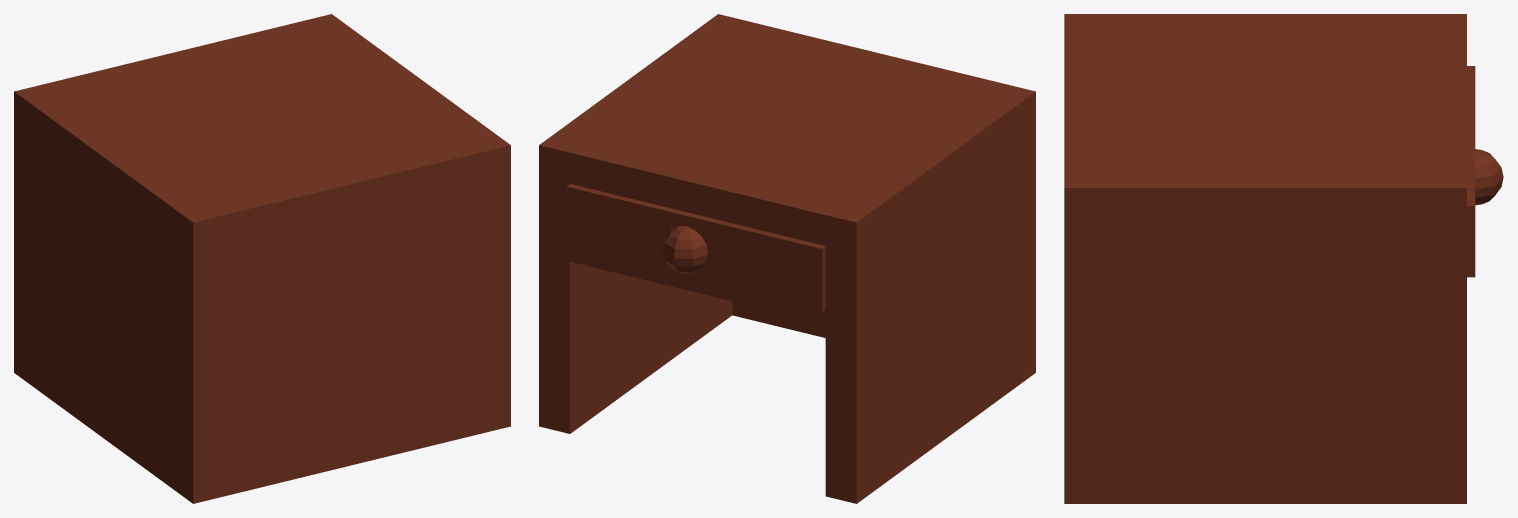
The model's file is meja_dibuka.fbx.
3 renders of one model, left to right at view 1: azimuth 30°, elevation 25°; view 2: azimuth 150°, elevation 25°; view 3: azimuth 270°, elevation 25°, orthographic. The views are drawn at different scales.
Visible parts, largest first — view 1: Cube.008; view 2: Cube.008, Cube.185; view 3: Cube.008, Cube.185.
Part boxes in pixels (x1,y1,x2,y2): Cube.008: (14,14,510,503); Cube.008: (539,14,1035,503); Cube.185: (566,184,825,312); Cube.008: (1064,14,1466,503); Cube.185: (1467,66,1503,277).
Bounding box in the file's own units: 72.48 × 61.33 × 77.29.
